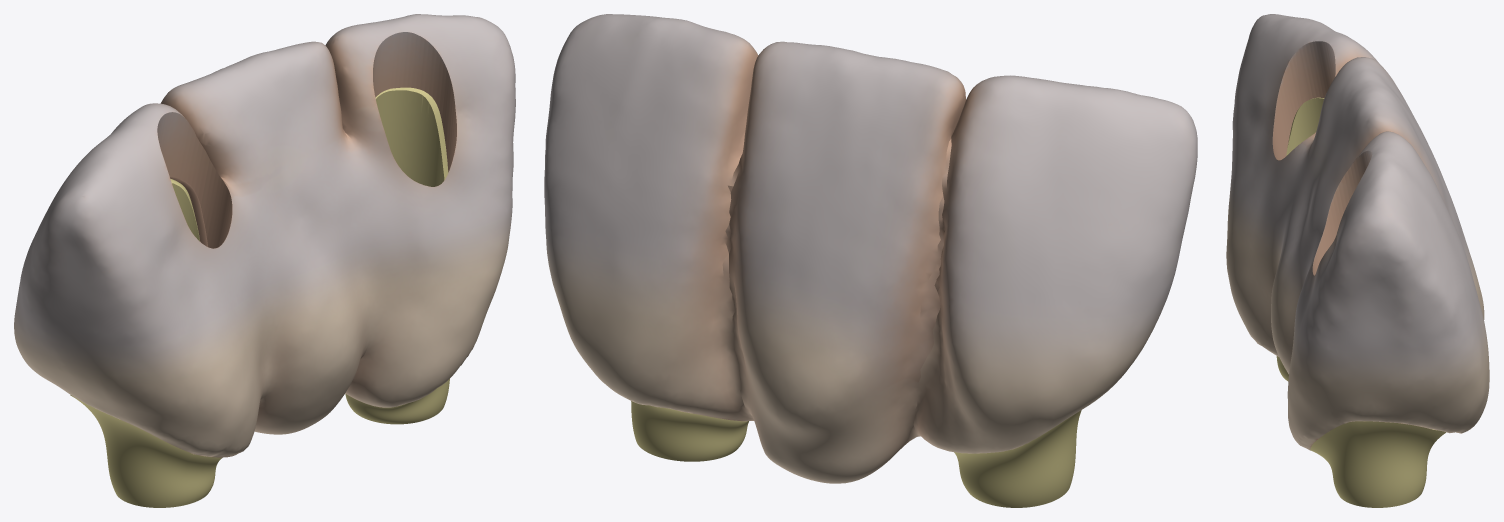
The model's file is monolithic.glb.
The picture shows the model from 3 angles, left to right: view 1: azimuth 30°, elevation 25°; view 2: azimuth 150°, elevation 25°; view 3: azimuth 270°, elevation 25°; orthographic projection. The views are drawn at different scales.
Parts seen in each view (by area): view 1: Crown_outer, gold_Abutment, Crown_inner; view 2: Crown_outer, gold_Abutment, Crown_inner; view 3: Crown_outer, gold_Abutment, Crown_inner.
Boxes of the visible parts, x1,y1,x2,y2 form: Crown_outer: (14,14,515,457); gold_Abutment: (70,87,449,507); Crown_inner: (170,15,474,248); Crown_outer: (544,14,1197,483); gold_Abutment: (631,401,1081,507); Crown_inner: (603,14,757,95); Crown_outer: (1226,14,1489,450); gold_Abutment: (1276,97,1445,507); Crown_inner: (1272,132,1431,278).
Size of the model in its own units: 17.05 by 12.17 by 8.46.
4 materials, 1 textured.
